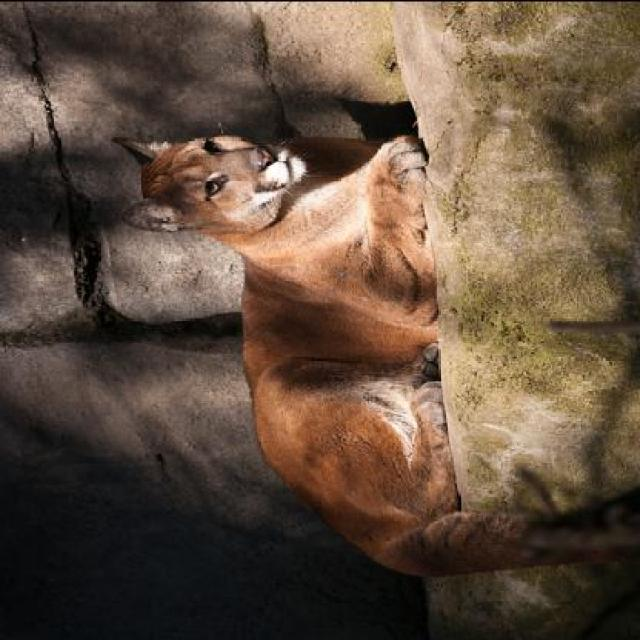Lion: (113, 117, 622, 612)
